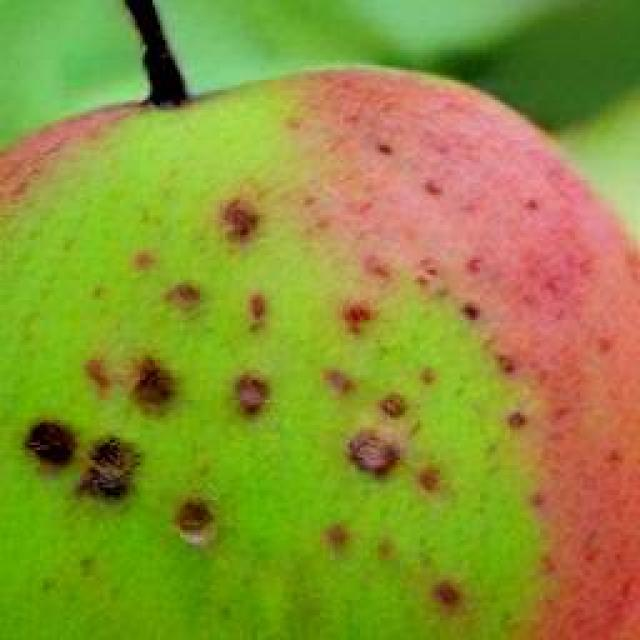healthy: (0, 58, 638, 638)
